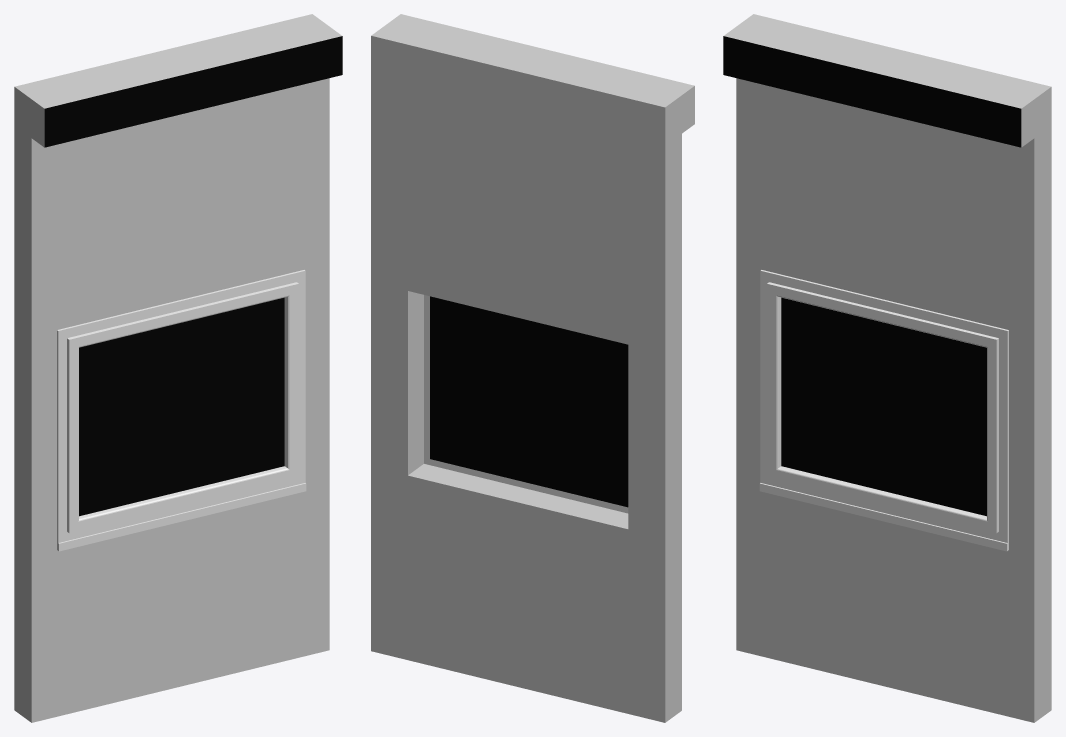
The model's file is Entrance_WallWindow.fbx.
3 renders of one model, left to right at view 1: azimuth 30°, elevation 25°; view 2: azimuth 150°, elevation 25°; view 3: azimuth 330°, elevation 25°, orthographic.
Parts seen in each view (by area): view 1: Entrance_WallWindow; view 2: Entrance_WallWindow; view 3: Entrance_WallWindow.
Boxes of the visible parts, box(x1,y1,x2,y2) form: Entrance_WallWindow: box(14, 14, 342, 722); Entrance_WallWindow: box(371, 14, 694, 722); Entrance_WallWindow: box(723, 14, 1051, 722).
Size of the model in its own units: 2 by 4 by 0.35.
